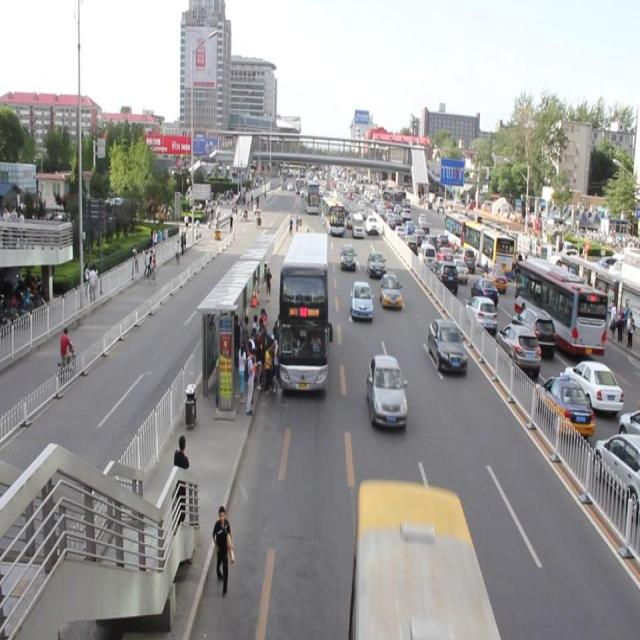car: (367, 356, 406, 427), (428, 314, 466, 375), (350, 278, 371, 319), (378, 271, 398, 307), (366, 250, 385, 280), (339, 242, 355, 274), (364, 215, 376, 235), (343, 210, 352, 229)
truck: (352, 214, 363, 238)
van: (279, 232, 327, 388), (321, 196, 343, 234)
